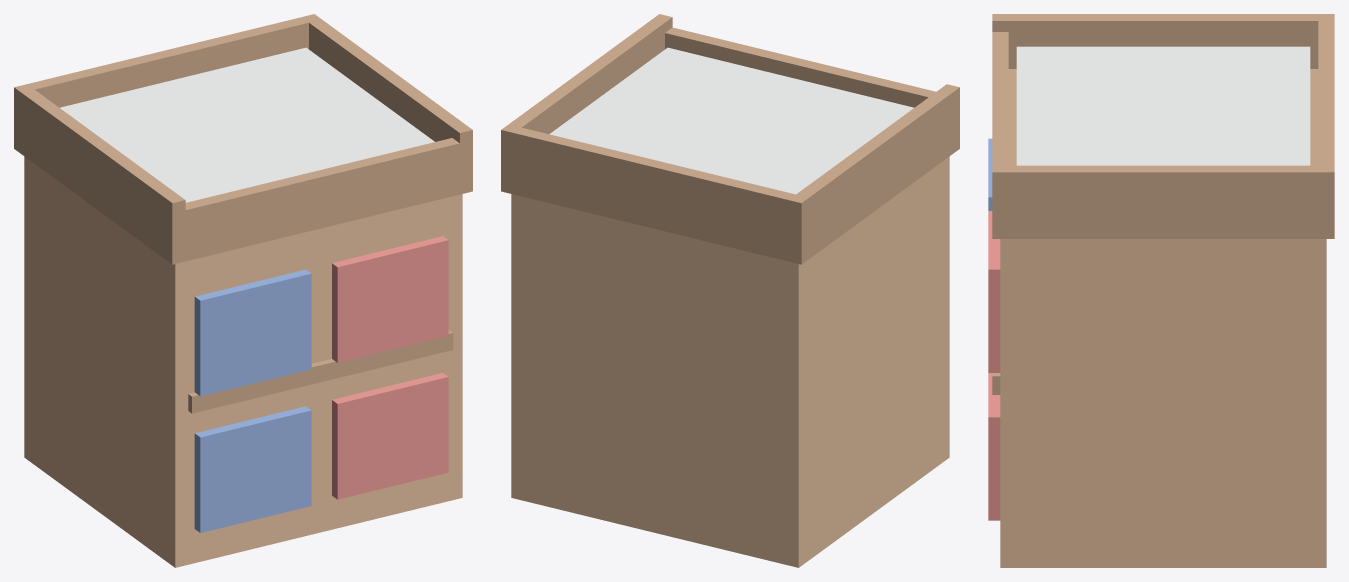
File: changingTable.glb
The picture shows the model from 3 angles, left to right: view 1: azimuth 30°, elevation 25°; view 2: azimuth 150°, elevation 25°; view 3: azimuth 270°, elevation 25°; orthographic projection. The views are drawn at different scales.
Parts seen in each view (by area): view 1: changingTable; view 2: changingTable; view 3: changingTable.
Part boxes in pixels (<box>): changingTable: <box>14,14,472,567</box>; changingTable: <box>501,14,959,567</box>; changingTable: <box>988,14,1334,567</box>.
Bounding box in the file's own units: 0.46 × 0.54 × 0.425.
